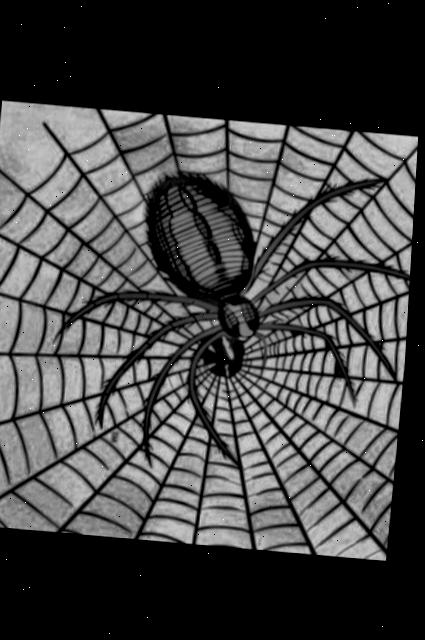La Arana: (0, 100, 420, 556)
